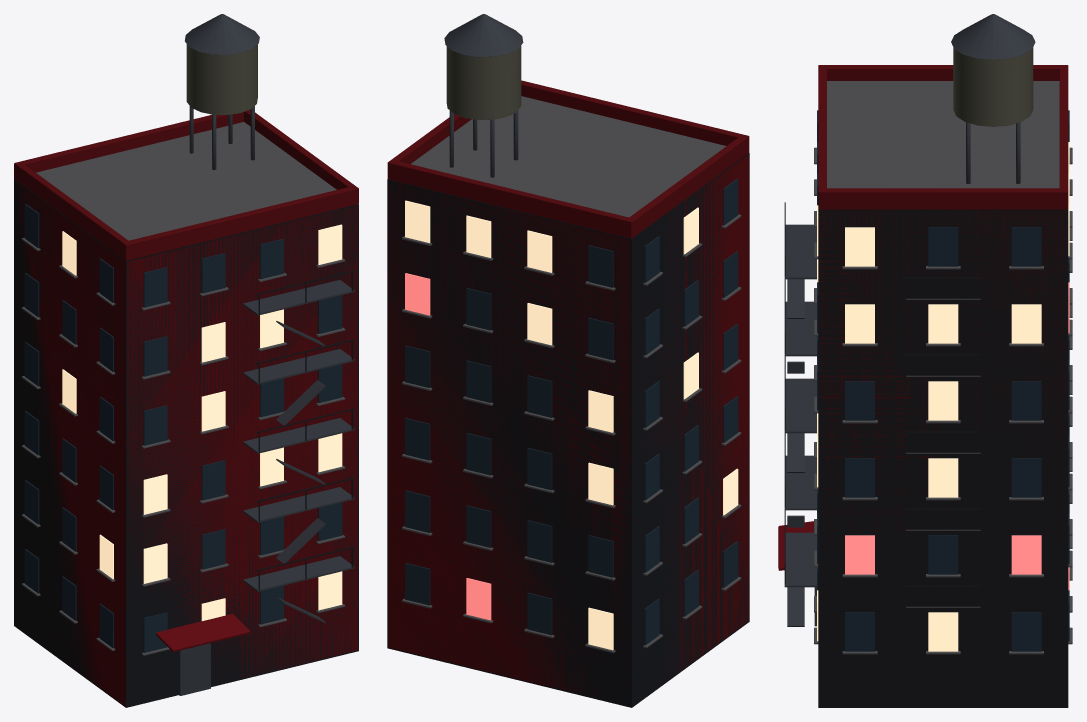
Rendered from kit_apartment.glb.
3 views of the same model, side by side, from view 1: azimuth 30°, elevation 25°; view 2: azimuth 150°, elevation 25°; view 3: azimuth 270°, elevation 25° (orthographic). The views are drawn at different scales.
Parts seen in each view (by area): view 1: ap_shell, ap_COL, ap_roof, ap_parapet1, ap_wt_tank, ap_parapet0, ap_parapet3, ap_wt_roof, ap_awning, ap_parapet2, ap_fe_plat2, ap_fe_plat3 (+47 smaller); view 2: ap_COL, ap_shell, ap_roof, ap_parapet0, ap_wt_tank, ap_parapet1, ap_parapet3, ap_wt_roof, ap_parapet2, ap1_win3_3, ap1_win1_1, ap1_win1_3 (+39 smaller); view 3: ap_COL, ap_roof, ap_shell, ap_parapet2, ap_wt_tank, ap_wt_roof, ap_parapet3, ap_fe_plat1, ap_fe_plat3, ap_fe_plat5, ap_balc_rail1, ap_balc_rail2 (+29 smaller).
Boxes of the visible parts, x1,y1,x2,y2 form: ap_shell: (15, 181, 357, 706); ap_COL: (14, 179, 358, 707); ap_roof: (36, 122, 336, 240); ap_parapet1: (123, 186, 358, 260); ap_wt_tank: (186, 44, 257, 114); ap_parapet0: (15, 112, 243, 172); ap_parapet3: (14, 162, 129, 260); ap_wt_roof: (185, 14, 259, 54); ap_awning: (156, 613, 250, 652); ap_parapet2: (244, 109, 358, 203); ap_fe_plat2: (243, 487, 354, 522); ap_fe_plat3: (243, 418, 354, 453); ap_COL: (387, 153, 749, 707); ap_shell: (388, 154, 748, 698); ap_roof: (411, 96, 726, 217); ap_parapet0: (387, 160, 632, 238); ap_wt_tank: (446, 45, 521, 120); ap_parapet1: (521, 80, 748, 145); ap_parapet3: (626, 136, 749, 238); ap_wt_roof: (444, 14, 523, 57); ap_parapet2: (388, 114, 471, 163); ap1_win3_3: (405, 345, 430, 387); ap1_win1_1: (527, 520, 552, 562); ap1_win1_3: (405, 490, 430, 532); ap_COL: (818, 209, 1068, 707); ap_roof: (827, 81, 1059, 188); ap_shell: (819, 211, 1066, 570); ap_parapet2: (818, 188, 1067, 209); ap_wt_tank: (953, 47, 1033, 126); ap_wt_roof: (951, 14, 1035, 59); ap_parapet3: (826, 65, 1059, 80); ap_fe_plat1: (784, 532, 816, 587); ap_fe_plat3: (784, 378, 816, 433); ap_fe_plat5: (784, 224, 816, 279); ap_balc_rail1: (906, 585, 980, 606); ap_balc_rail2: (906, 508, 980, 529).
Size of the model in its own units: 13.08 by 29.2 by 11.77.
10 materials, 10 textured.
